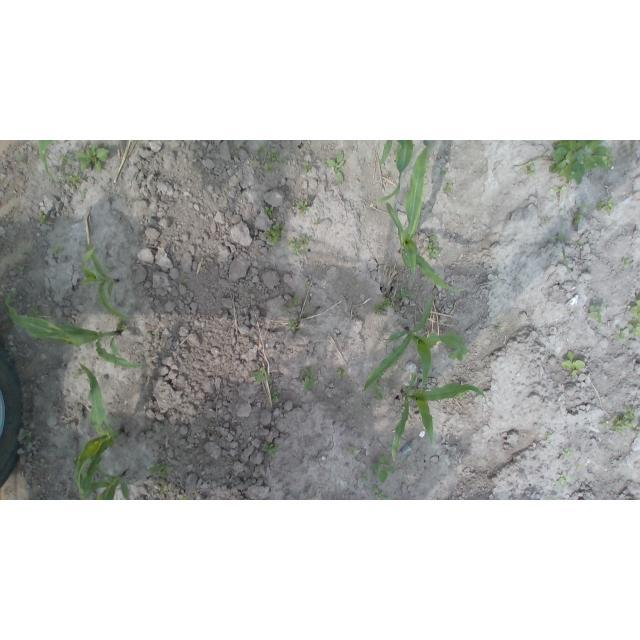Maize: (385, 144, 469, 292), (363, 297, 469, 405), (4, 292, 148, 368), (391, 374, 489, 463), (74, 361, 123, 496), (78, 241, 134, 319), (374, 141, 414, 204), (76, 462, 134, 500), (36, 141, 61, 186)
Weeds: (549, 141, 613, 184), (599, 408, 640, 434), (76, 144, 108, 172), (371, 455, 396, 483), (562, 351, 587, 377), (327, 153, 346, 182), (263, 223, 286, 244), (286, 236, 310, 256), (148, 460, 172, 478), (300, 368, 318, 391), (374, 297, 397, 315), (424, 234, 440, 259), (264, 148, 280, 173), (251, 367, 271, 384), (596, 198, 616, 214), (588, 305, 605, 323), (372, 484, 389, 500), (555, 473, 574, 487), (628, 318, 640, 339), (67, 172, 84, 186), (448, 350, 466, 362), (262, 443, 278, 456), (610, 330, 626, 343), (524, 161, 537, 177), (372, 383, 384, 400), (297, 200, 310, 214), (21, 429, 34, 443), (157, 482, 171, 494), (631, 300, 640, 318), (14, 154, 26, 166), (550, 185, 567, 193), (302, 161, 313, 173), (562, 448, 574, 459), (279, 303, 293, 312), (397, 290, 411, 299), (545, 432, 556, 443), (264, 206, 274, 218), (456, 391, 469, 400), (288, 319, 297, 332), (578, 203, 592, 211), (61, 154, 72, 164), (73, 367, 83, 378), (117, 321, 128, 331), (30, 306, 42, 315), (38, 214, 47, 225), (574, 213, 583, 224), (492, 323, 504, 331), (337, 369, 347, 378), (621, 258, 631, 267), (292, 295, 300, 306), (258, 145, 266, 156), (440, 167, 448, 177), (272, 392, 279, 403), (55, 245, 64, 253), (362, 473, 369, 483), (179, 494, 190, 500), (313, 219, 322, 226), (446, 183, 453, 192), (350, 447, 357, 456), (81, 188, 87, 198), (632, 141, 640, 148), (403, 313, 410, 320), (152, 332, 159, 338), (575, 463, 581, 469), (543, 218, 550, 223), (549, 497, 560, 500), (597, 326, 602, 331), (304, 284, 309, 289)
